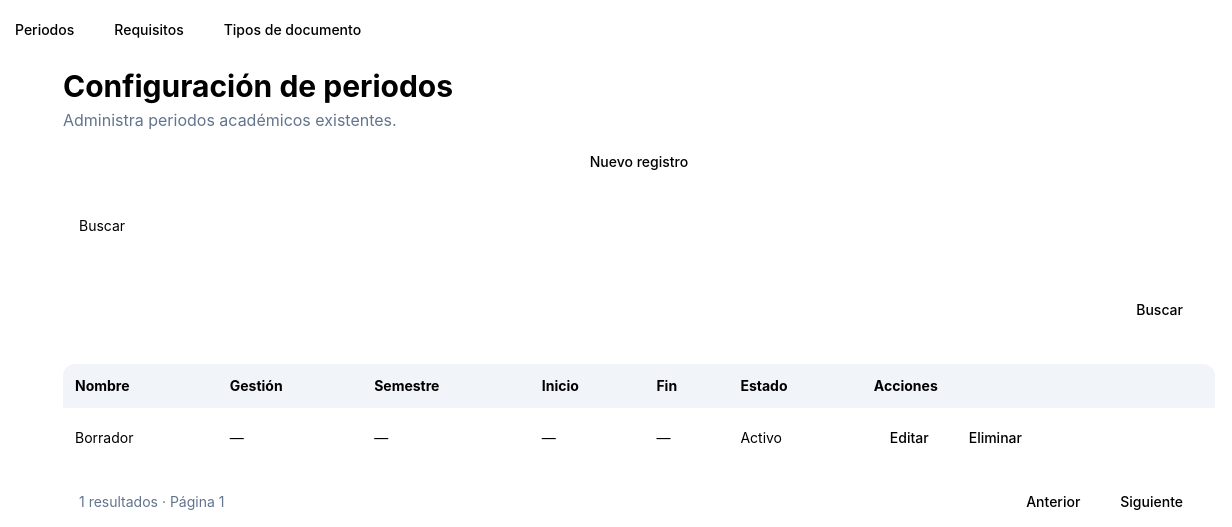
Test: Configuración de tipos de documento › edita y muestra validaciones duplicadas del backend
This screenshot has width=1232, height=527.
Later steps or results of the test are not shown.
Click the button "Tipos de documento" at (292, 30), box [208, 12, 377, 48]
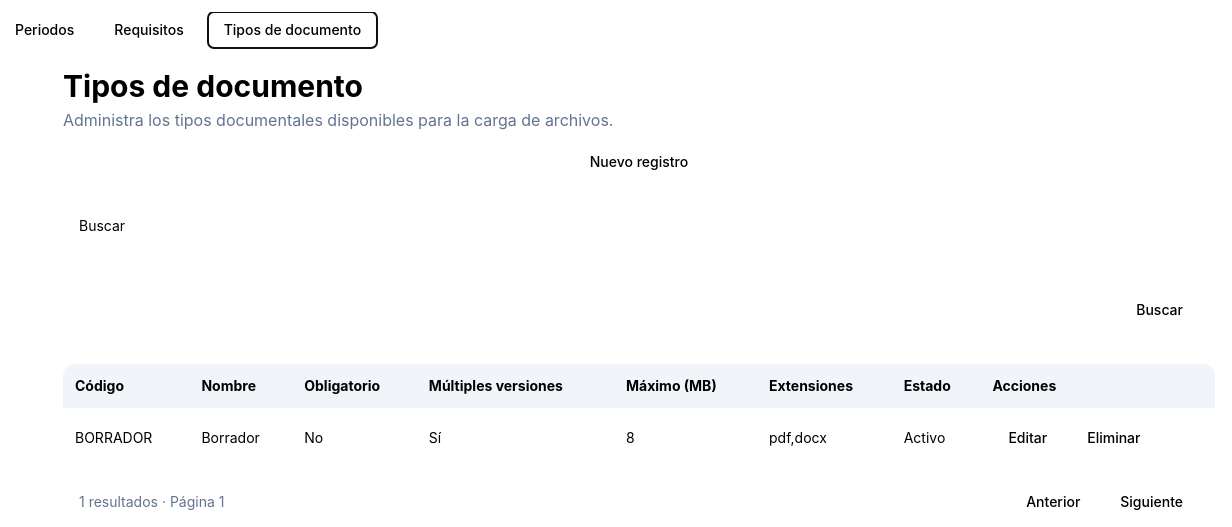
expect the heading "Tipos de documento" is shown: met, box [63, 68, 363, 104]
expect the text "BORRADOR" is shown: met, box [63, 408, 189, 468]
